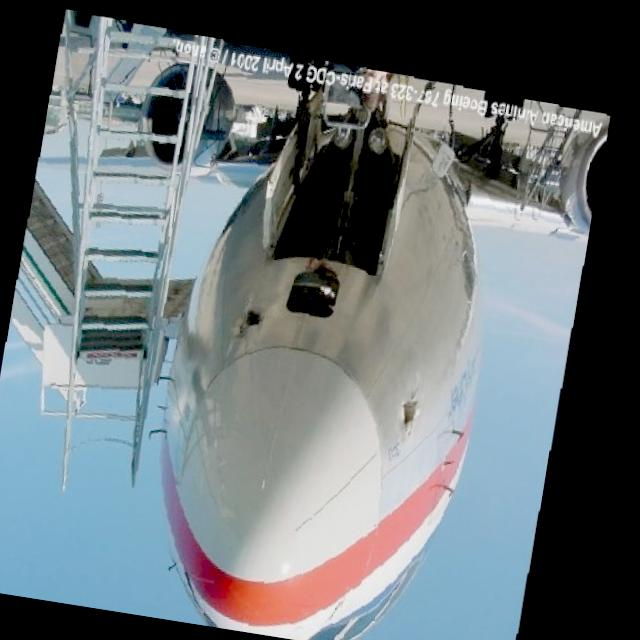dent: (392, 381, 429, 424), (235, 312, 266, 349)
